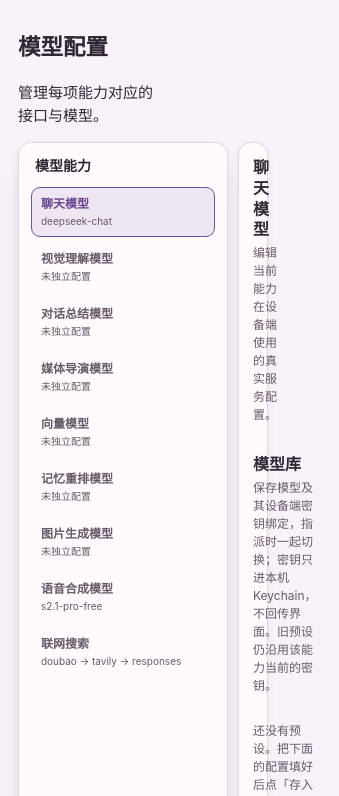
it: AdminPanel 子页首屏 › 模型配置 → 语音合成 补齐 Fish 参数并提供试听
Click the button "语音合成模型 s2.1-pro-free" at (123, 597), box 31,572 -> 215,622
(page scrolled)
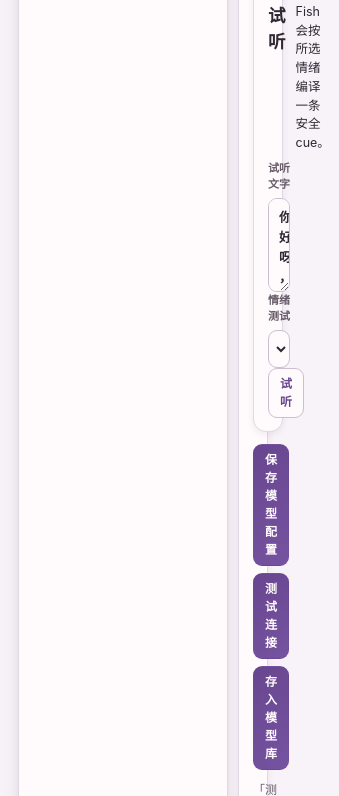
Expected: the button with test id "admin-tts-preview-play" is shown, 268,368 -> 304,418
